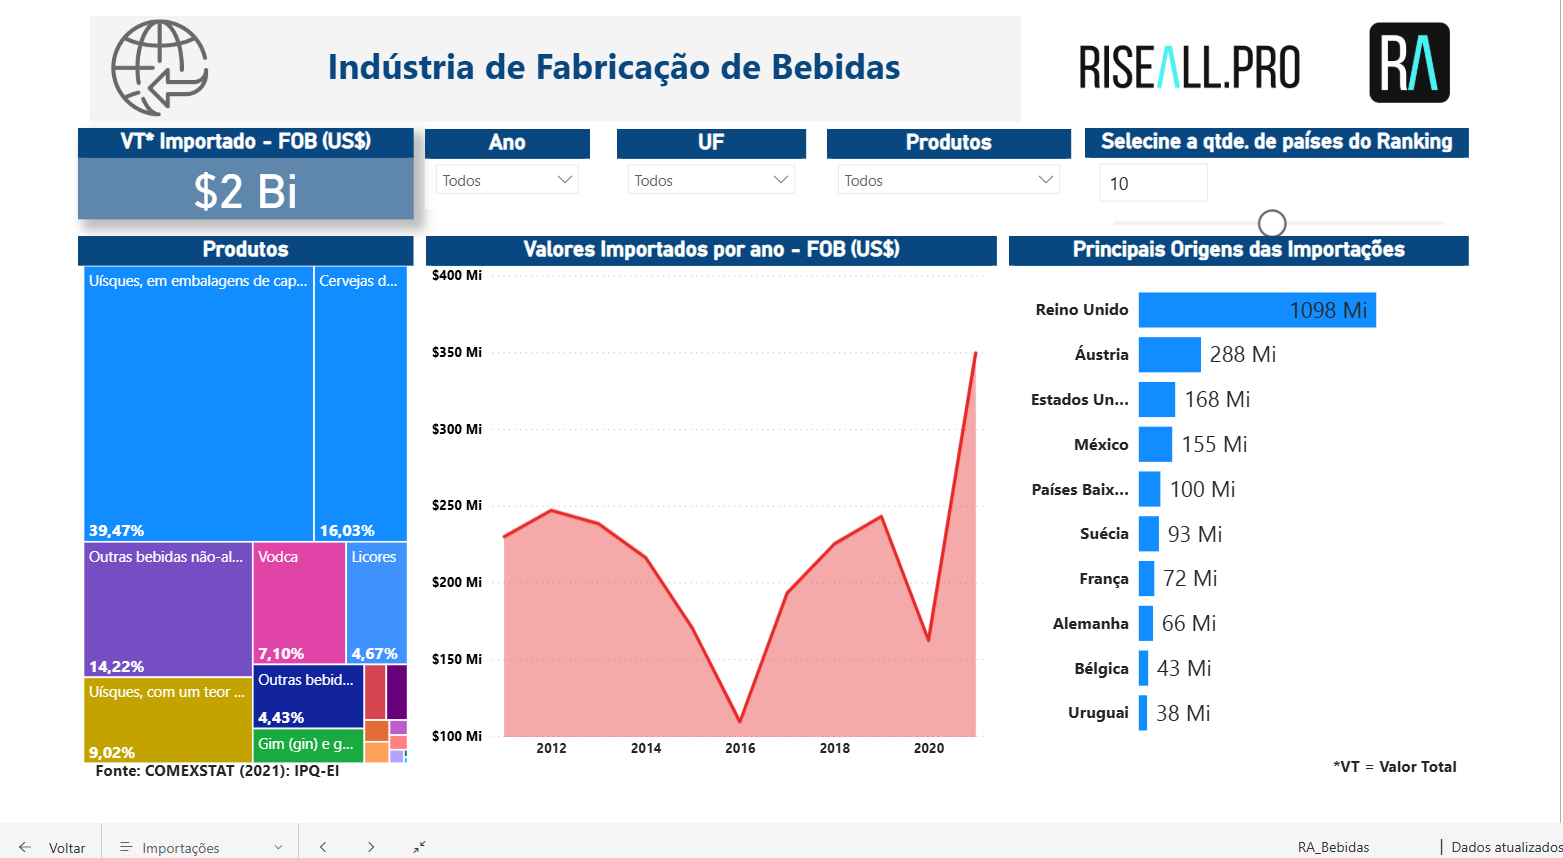

The dashboard page shown, as its layout file describes it:
{"tool":"powerbi","page":{"name":"Importações","canvas":[1280,720],"ordinal":5},"visuals":[{"type":"areaChart","title":"Valores Importados por ano -  FOB (US$)","fields":{"Y":["Comércio_Exterior.Importação"],"Category":["Comércio_Exterior.Ano*.Variation.Hierarquia de datas.Ano"]},"box":[320.5,209.8,518.8,484.3],"z":1000},{"type":"card","title":"VT* Importado - FOB (US$)","fields":{"Values":["Comércio_Exterior.Importação"]},"box":[4.3,112.1,304.7,83.4],"z":2000},{"type":"slicer","title":"Ano","fields":{"Values":["Comércio_Exterior.Ano*.Variation.Hierarquia de datas.Ano"]},"box":[320,112.4,149.9,73.4],"z":3000},{"type":"treemap","title":"Produtos","fields":{"Group":["Comércio_Exterior.Descrição NCM"],"Values":["Comércio_Exterior.Importação"]},"box":[4.3,209.8,304.7,484.3],"z":4000},{"type":"slicer","title":"Selecine a qtde. de países do  Ranking","fields":{"Values":["N_Maiores_Imp.N_Maiores_Imp"]},"box":[919.8,112.1,349.2,102],"z":5000},{"type":"clusteredBarChart","title":"Principais Origens das Importações","fields":{"Y":["Comércio_Exterior.Valor_Total_Imp"],"Category":["Comércio_Exterior.País Externo"]},"box":[850.8,209.8,418.2,471.4],"z":6000},{"type":"slicer","title":"UF","fields":{"Values":["Comércio_Exterior.UF "]},"box":[494.8,112.4,171.7,73.4],"z":8000},{"type":"slicer","title":"Produtos","fields":{"Values":["Comércio_Exterior.Descrição NCM"]},"box":[685.3,112.4,221.7,73.4],"z":9000},{"type":"textbox","box":[15.8,681.2,241.4,38.8],"z":10000},{"type":"textbox","box":[1140.6,676.9,139.4,28.7],"z":11000},{"type":"image","title":"Importação","box":[21.6,8.6,115,97.7],"z":12000},{"type":"textbox","box":[15.8,10.1,846.5,96.3],"z":13000},{"type":"image","box":[911.1,23.5,208.7,64.5],"z":13001},{"type":"image","box":[1172.6,10.6,84.4,83.3],"z":13002}]}

Visuals, with their boxes on the page's 1280x720 design canvas (x1, y1, x2, y2). These are canvas units, not pixel positions in the 1563x858 screenshot, which may show the page scaled, cropped or inside an application window:
"Valores Importados por ano -  FOB (US$)" areaChart: 320/210/839/694
"VT* Importado - FOB (US$)" card: 4/112/309/196
"Ano" slicer: 320/112/470/186
"Produtos" treemap: 4/210/309/694
"Selecine a qtde. de países do  Ranking" slicer: 920/112/1269/214
"Principais Origens das Importações" clusteredBarChart: 851/210/1269/681
"UF" slicer: 495/112/666/186
"Produtos" slicer: 685/112/907/186
textbox: 16/681/257/720
textbox: 1141/677/1280/706
"Importação" image: 22/9/137/106
textbox: 16/10/862/106
image: 911/24/1120/88
image: 1173/11/1257/94
